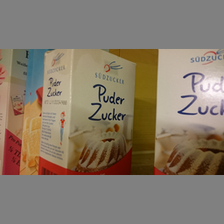sugar: (38, 49, 136, 174), (154, 49, 224, 175)
